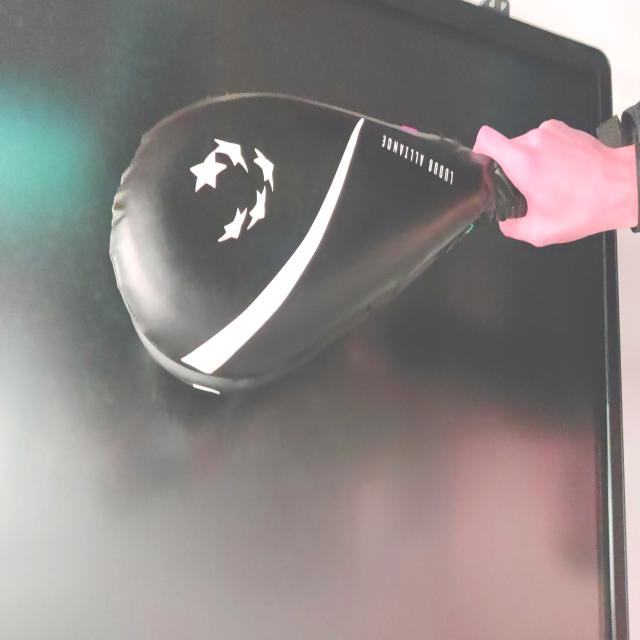paddle: (105, 87, 522, 400)
